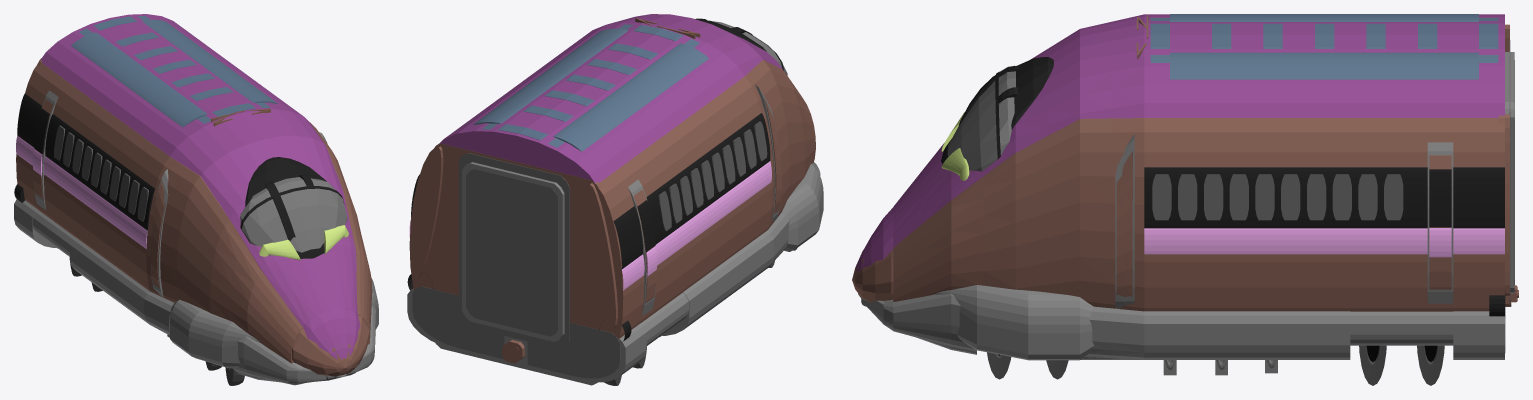
The model's file is Japan.fbx.
The picture shows the model from 3 angles, left to right: view 1: azimuth 30°, elevation 25°; view 2: azimuth 150°, elevation 25°; view 3: azimuth 270°, elevation 25°; orthographic projection. The views are drawn at different scales.
Parts seen in each view (by area): view 1: Japan; view 2: Japan; view 3: Japan.
Boxes of the visible parts, bbox=[...] form: Japan: bbox=[14, 14, 378, 385]; Japan: bbox=[407, 14, 823, 385]; Japan: bbox=[852, 14, 1518, 385].
Size of the model in its own units: 206 by 230 by 446.
1 material, 1 textured.
